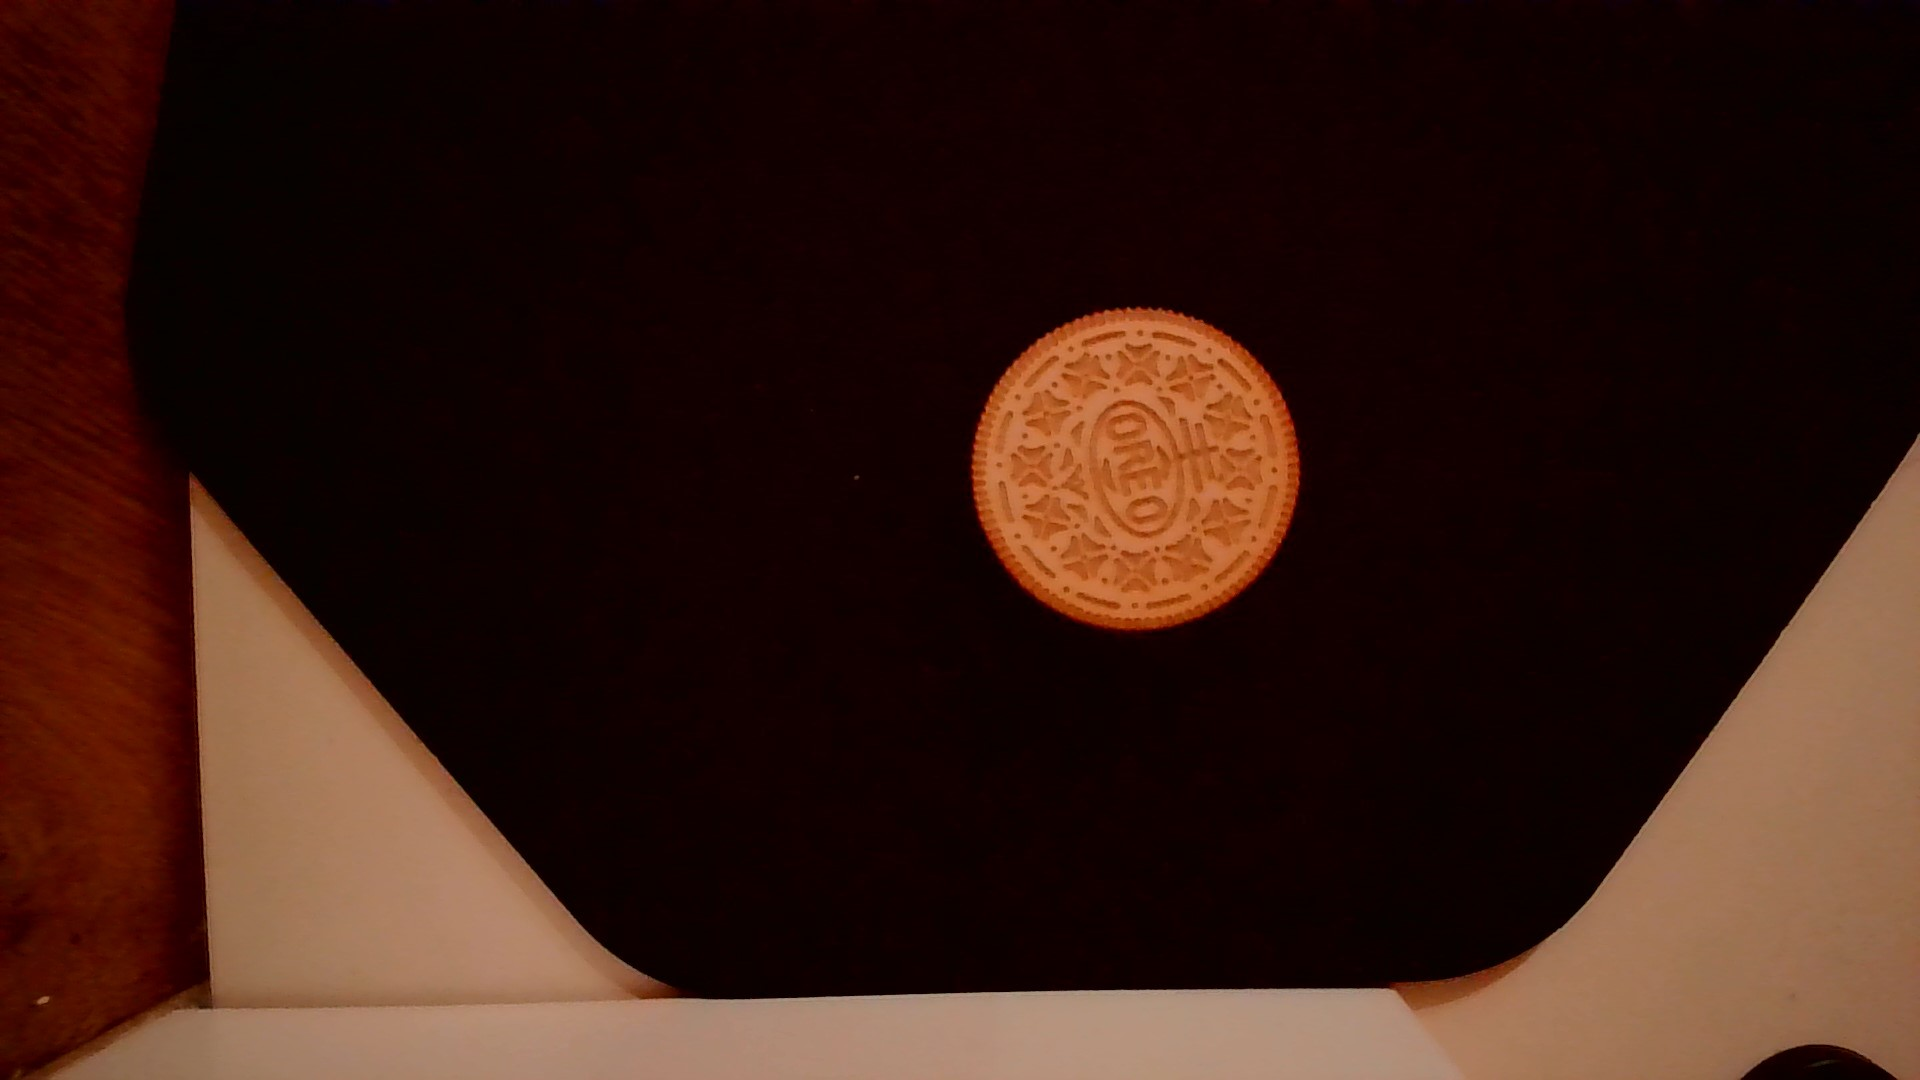Oréo: (956, 303, 1312, 645)
